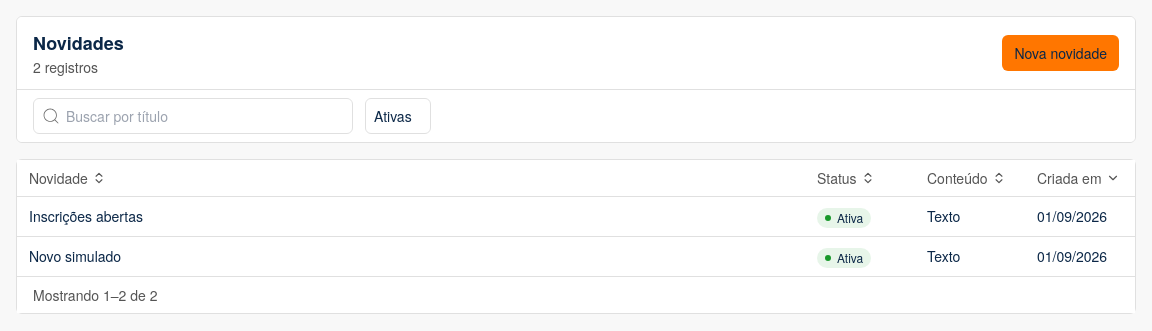
Test case: DashNews (V2) › a busca filtra pelo título
expect the text "Inscrições abertas" is shown: met, box [29,206,143,226]
In the search field with placeholder "Buscar por título": (193, 116) [33,98,353,134], type "simul"
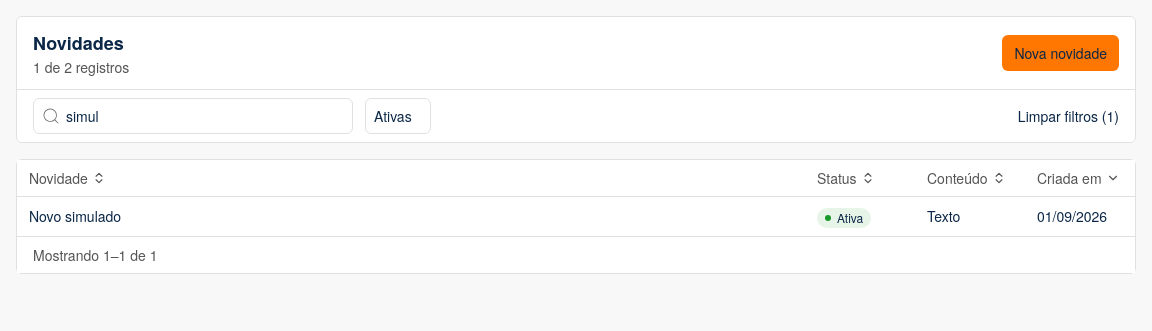
expect the text "Novo simulado" is shown: met, box [29,206,121,226]
expect the button "Inscrições abertas" is gone: met
